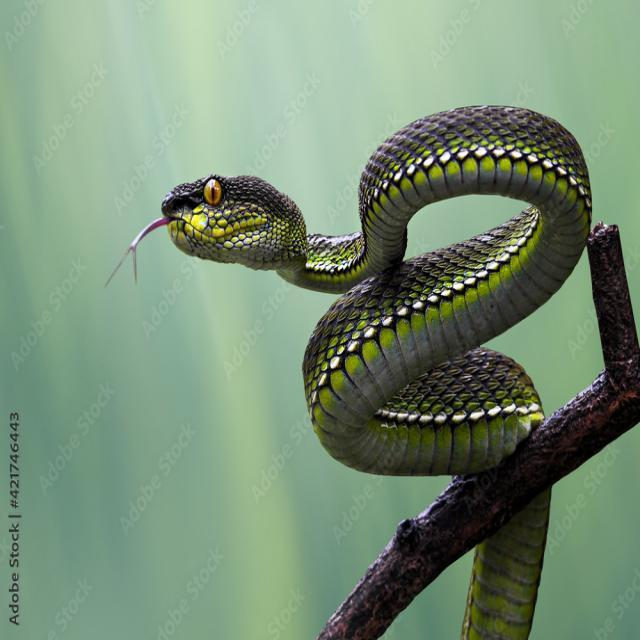Snake: (108, 81, 640, 640)
